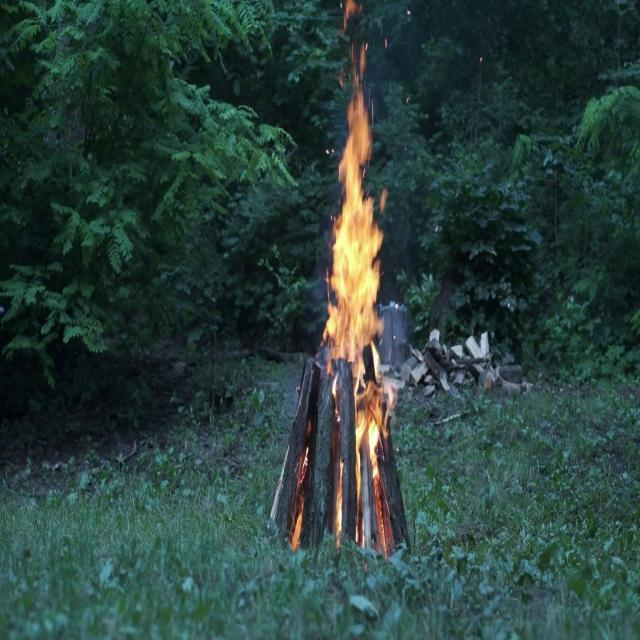Fire: (318, 22, 400, 536)
